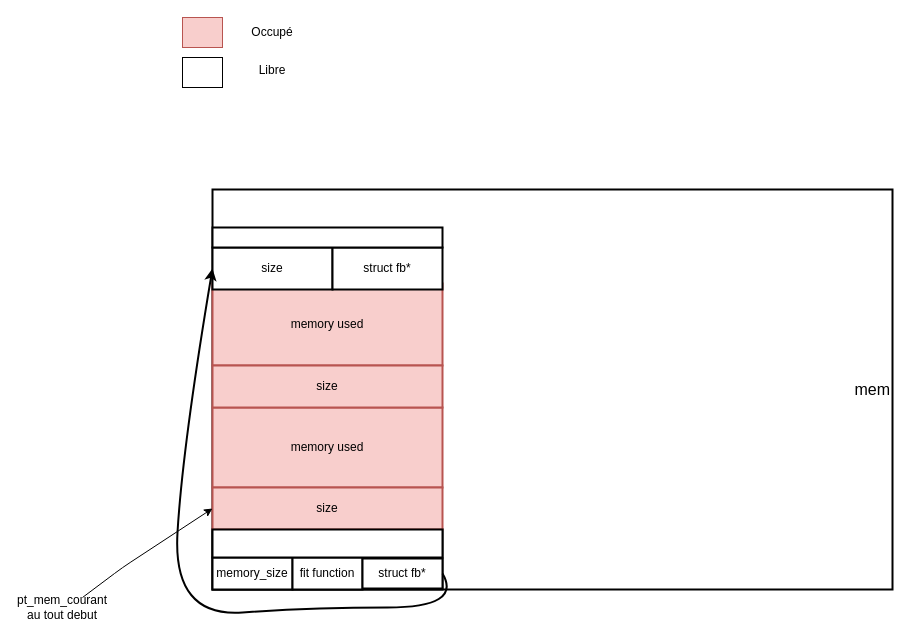
The diagram is 910 pixels wide and 639 high, and some of its shapes have lost their labels. The shapes that lost their labels are listed below. From the top down, each one's centre as x and y in pixels, then its label:
the point at 327,237: Struc fb
the point at 327,543: allocateur header
